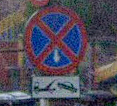oprirea_interzisa: (22, 4, 88, 77)
